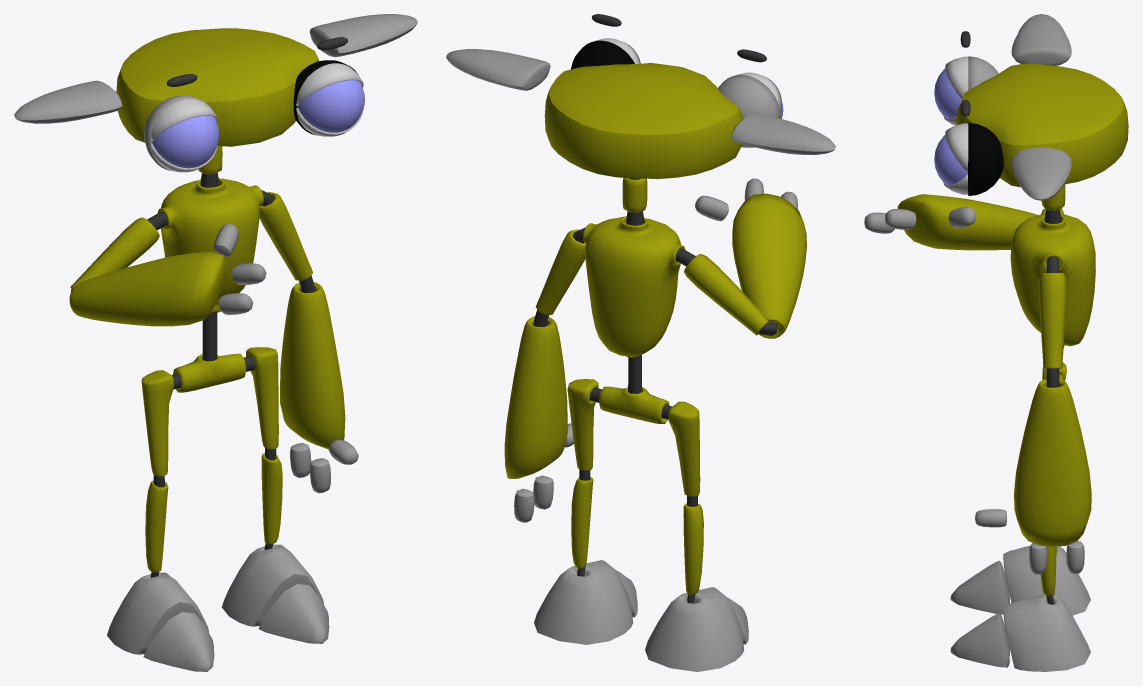
File: click3.obj
The picture shows the model from 3 angles, left to right: view 1: azimuth 30°, elevation 25°; view 2: azimuth 150°, elevation 25°; view 3: azimuth 270°, elevation 25°; orthographic projection. The views are drawn at different scales.
Visible parts, largest first — view 1: Mesh polySurface50, Mesh polySurface37, Mesh polySurface18, Mesh polySurface41, Mesh polySurface48, Mesh polySurface10, Mesh polySurface26, Mesh polySurface8, Mesh polySurface24, Mesh polySurface47, Mesh polySurface6, Mesh polySurface22 (+17 smaller); view 2: Mesh polySurface41, Mesh polySurface50, Mesh polySurface48, Mesh polySurface18, Mesh polySurface37, Mesh polySurface26, Mesh polySurface10, Mesh polySurface47, Mesh polySurface38, Mesh polySurface44, Mesh polySurface28, Mesh polySurface12 (+8 smaller); view 3: Mesh polySurface18, Mesh polySurface50, Mesh polySurface41, Mesh polySurface10, Mesh polySurface37, Mesh polySurface48, Mesh polySurface26, Mesh polySurface44, Mesh polySurface51, Mesh polySurface4, Mesh polySurface8, Mesh polySurface24 (+14 smaller).
Boxes of the visible parts, x1,y1,x2,y2 form: Mesh polySurface50: (120,28,317,102); Mesh polySurface37: (69,252,225,326); Mesh polySurface18: (280,282,345,449); Mesh polySurface41: (157,178,263,312); Mesh polySurface48: (116,54,319,146); Mesh polySurface10: (221,544,323,626); Mesh polySurface26: (107,572,208,654); Mesh polySurface8: (258,584,329,643); Mesh polySurface24: (143,612,214,671); Mesh polySurface47: (14,80,122,120); Mesh polySurface6: (297,80,364,132); Mesh polySurface22: (152,115,219,168); Mesh polySurface41: (583,216,685,357); Mesh polySurface50: (549,63,738,134); Mesh polySurface48: (544,87,742,178); Mesh polySurface18: (504,316,567,478); Mesh polySurface37: (732,193,806,338); Mesh polySurface26: (645,587,744,671); Mesh polySurface10: (534,560,633,644); Mesh polySurface47: (731,113,835,151); Mesh polySurface38: (684,254,769,335); Mesh polySurface44: (446,49,548,86); Mesh polySurface28: (668,401,700,496); Mesh polySurface12: (567,379,598,470); Mesh polySurface18: (1014,379,1091,546); Mesh polySurface50: (960,63,1123,145); Mesh polySurface41: (1010,214,1095,347); Mesh polySurface10: (1003,594,1090,671); Mesh polySurface37: (897,194,1038,250); Mesh polySurface48: (956,97,1128,187); Mesh polySurface26: (1003,546,1090,615); Mesh polySurface44: (1011,147,1071,199); Mesh polySurface51: (1038,273,1066,368); Mesh polySurface4: (968,123,1003,195); Mesh polySurface8: (950,613,1007,667); Mesh polySurface24: (950,561,1005,614).
Bounding box in the file's own units: 10.05 × 14.23 × 6.11.
